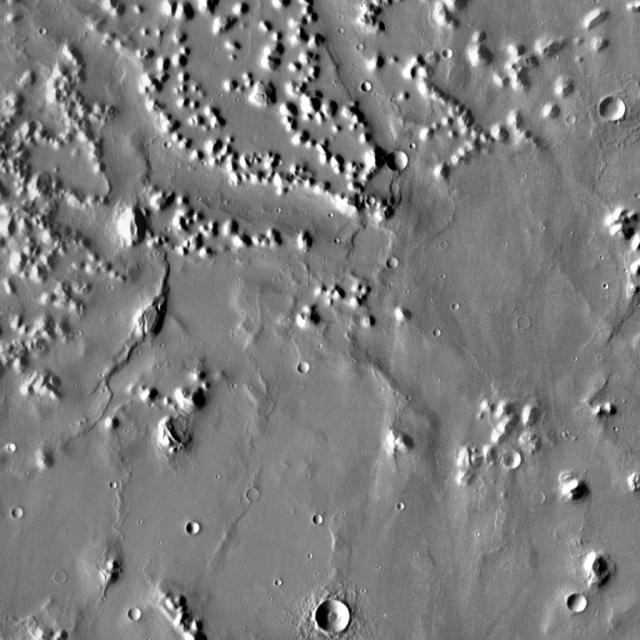crater: (353, 226, 391, 263), (318, 602, 352, 636), (602, 100, 626, 124), (565, 594, 584, 613), (389, 154, 408, 172), (505, 452, 521, 468), (128, 626, 141, 639), (55, 571, 68, 584), (188, 524, 200, 538), (247, 491, 259, 503), (31, 120, 43, 132), (299, 365, 311, 376), (389, 261, 399, 272), (14, 508, 24, 518), (444, 47, 454, 57), (315, 518, 324, 528), (6, 99, 15, 108), (8, 443, 17, 452), (364, 84, 372, 92), (357, 43, 365, 51), (368, 198, 376, 206), (434, 328, 442, 336), (268, 576, 276, 583), (32, 21, 40, 28), (362, 204, 370, 211), (158, 134, 166, 141), (103, 474, 111, 481), (446, 296, 453, 302)
